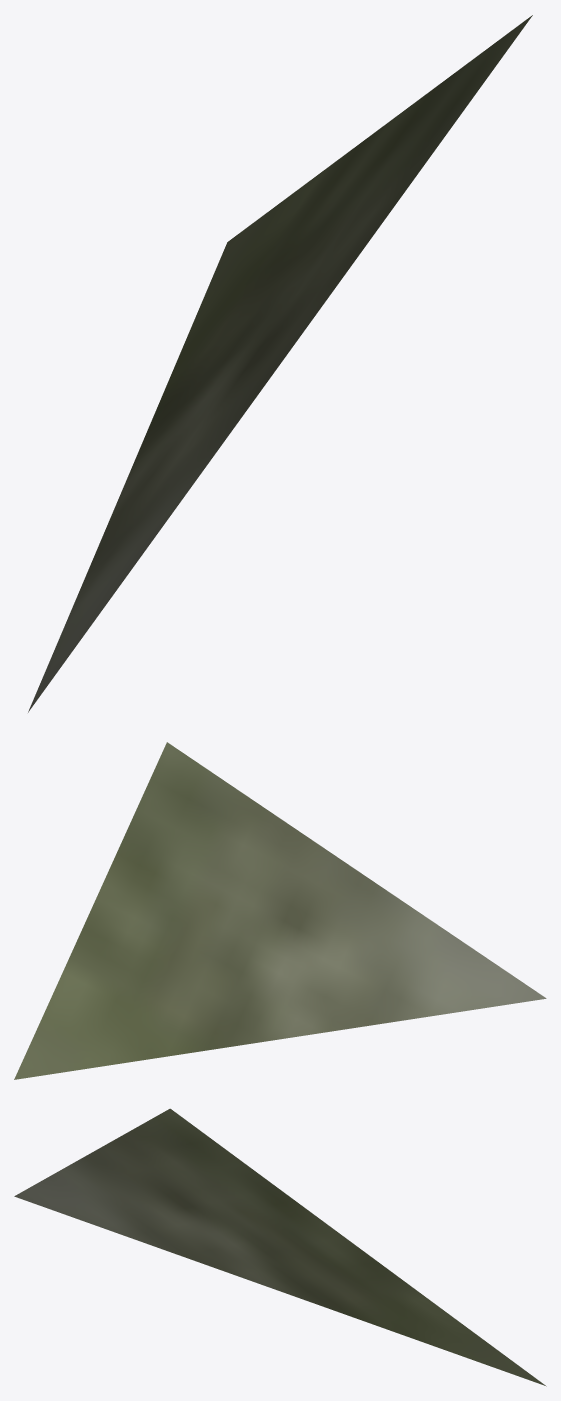
The picture shows the model from 3 angles, top to bottom: view 1: azimuth 30°, elevation 25°; view 2: azimuth 150°, elevation 25°; view 3: azimuth 270°, elevation 25°; orthographic projection. The views are drawn at different scales.
Size of the model in its own units: 0.4752 by 0.3241 by 0.5631.
Materials: 1 (1 with a texture image).
